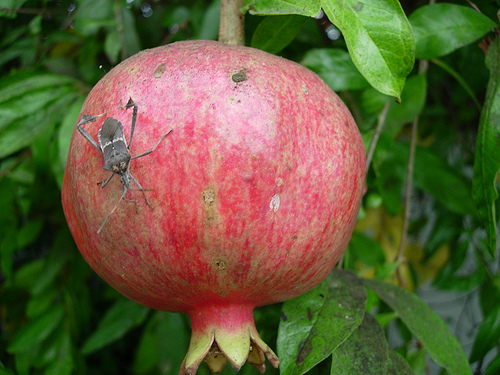pomogranate: (59, 38, 369, 374)
